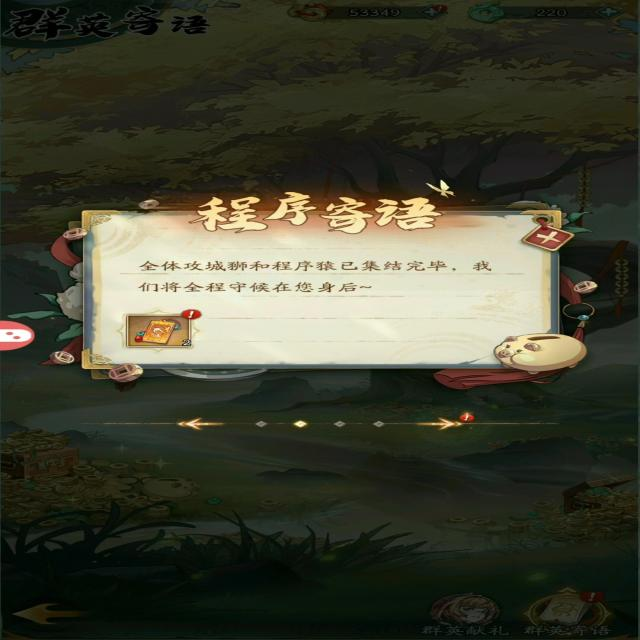hint-reddot: (166, 302, 243, 328), (442, 405, 498, 426)
operation-close: (490, 221, 583, 262)
operation-confirm: (93, 302, 205, 359)
operation-enter: (174, 408, 223, 441), (415, 408, 458, 437)
